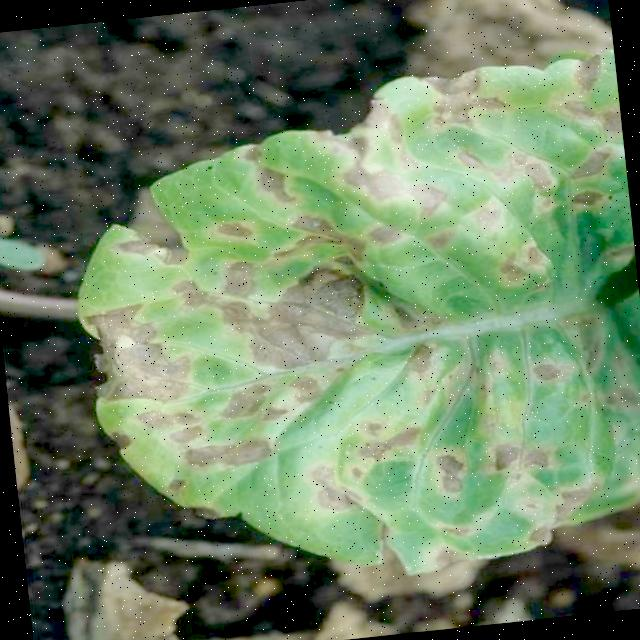Septoria_Blight_on_lettuce: (77, 52, 640, 595)
